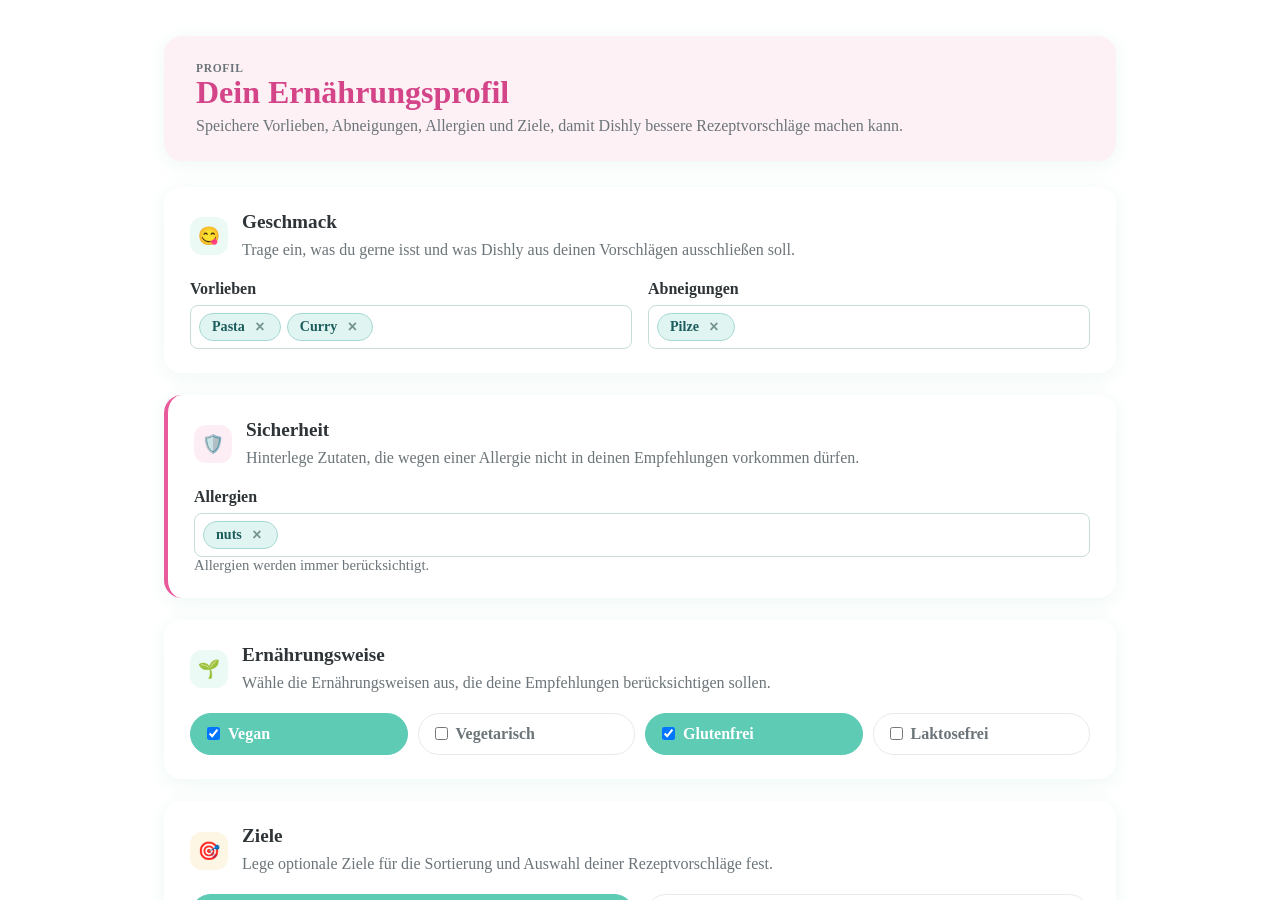
it: ProfileView › removes a chip on click of the � button
Click the button with class "tag-chip-remove" next to "Pasta".
click(260, 327)  # box [250, 317, 270, 337]
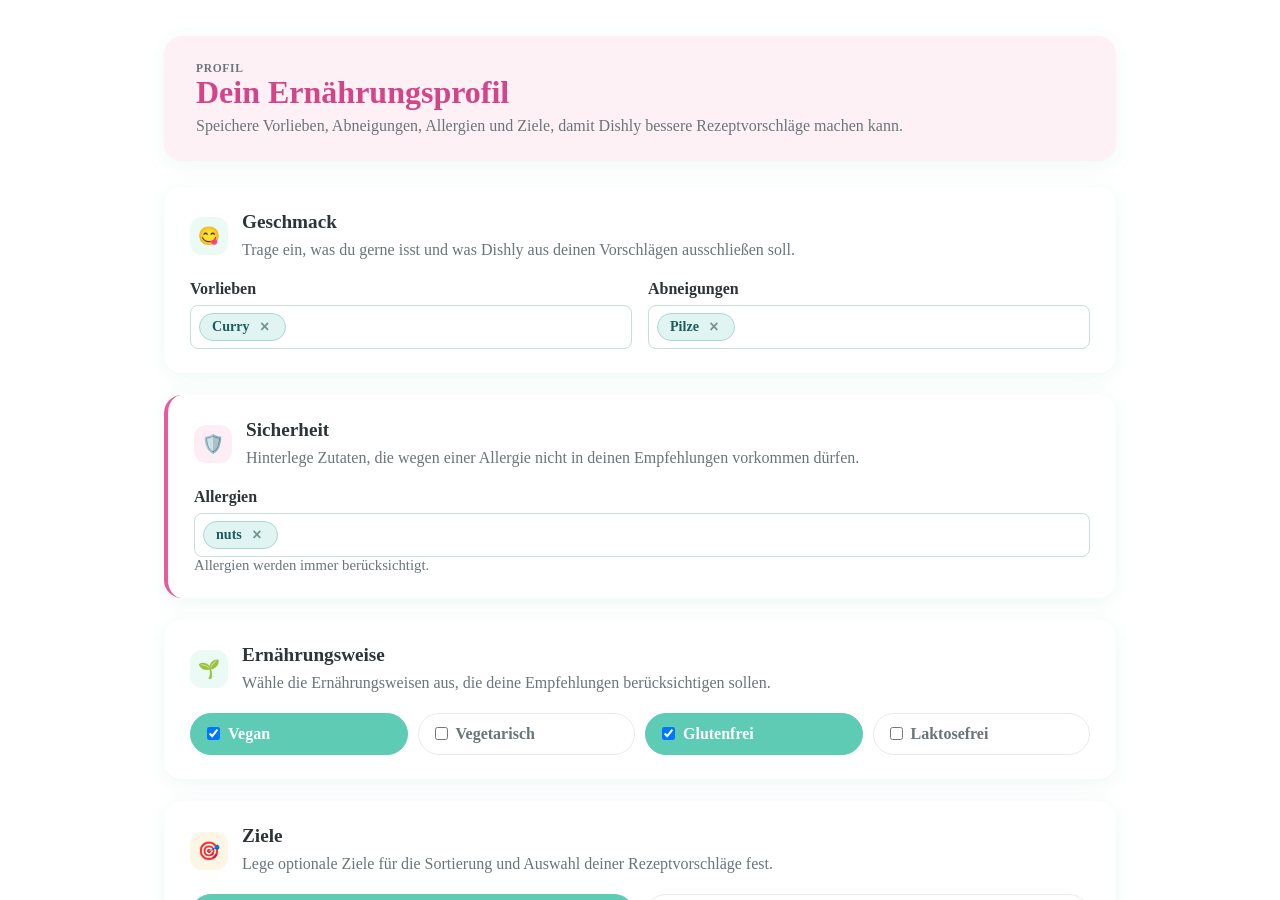
Check: the text "Pasta" is gone
